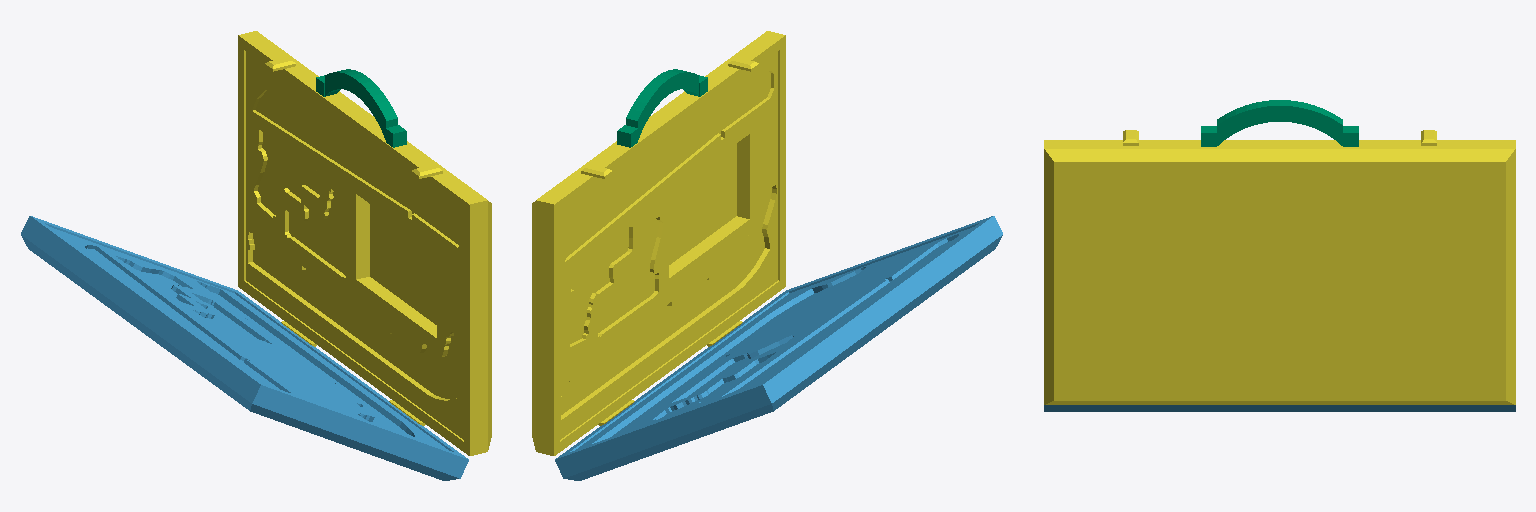
The robot description file, URDF, robot "partnet_e8fdbe64ccce82a2e2bb19fbad3e4596-0":
<?xml version="1.0" ?>
<robot name="partnet_e8fdbe64ccce82a2e2bb19fbad3e4596-0">
	<link name="base"/>
	<link name="link_0">
		<visual name="lid-1">
			<origin xyz="-0.0 0.33352888942731274 0.189507"/>
			<geometry>
				<mesh filename="textured_objs/original-1.obj"/>
			</geometry>
		</visual>
		<collision>
			<origin xyz="-0.0 0.33352888942731274 0.189507"/>
			<geometry>
				<mesh filename="textured_objs/original-1.obj"/>
			</geometry>
		</collision>
	</link>
	<joint name="joint_0" type="fixed">
		<origin xyz="0.0 -0.33352888942731274 -0.189507"/>
		<axis xyz="1.0 -0.0 -0.0"/>
		<child link="link_0"/>
		<parent link="link_2"/>
		<limit lower="-1.0471975511965976" upper="2.0943951023931953"/>
	</joint>
	<link name="link_1">
		<visual name="handle-2">
			<origin xyz="0.27395400000000025 -0.6275036156386198 0.2234539661454532"/>
			<geometry>
				<mesh filename="textured_objs/original-7.obj"/>
			</geometry>
		</visual>
		<collision>
			<origin xyz="0.27395400000000025 -0.6275036156386198 0.2234539661454532"/>
			<geometry>
				<mesh filename="textured_objs/original-7.obj"/>
			</geometry>
		</collision>
	</link>
	<joint name="joint_1" type="fixed">
		<origin xyz="-0.27395400000000025 0.6275036156386198 -0.2234539661454532"/>
		<axis xyz="1.0 -0.0 -0.0"/>
		<child link="link_1"/>
		<parent link="link_2"/>
		<limit lower="-1.5707963267948966" upper="1.5707963267948966"/>
	</joint>
	<link name="link_2">
		<visual name="base_body-3">
			<origin xyz="0 0 0"/>
			<geometry>
				<mesh filename="textured_objs/original-4.obj"/>
			</geometry>
		</visual>
		<visual name="base_body-3">
			<origin xyz="0 0 0"/>
			<geometry>
				<mesh filename="textured_objs/original-3.obj"/>
			</geometry>
		</visual>
		<visual name="base_body-3">
			<origin xyz="0 0 0"/>
			<geometry>
				<mesh filename="textured_objs/original-8.obj"/>
			</geometry>
		</visual>
		<visual name="base_body-3">
			<origin xyz="0 0 0"/>
			<geometry>
				<mesh filename="textured_objs/original-5.obj"/>
			</geometry>
		</visual>
		<visual name="base_body-3">
			<origin xyz="0 0 0"/>
			<geometry>
				<mesh filename="textured_objs/original-6.obj"/>
			</geometry>
		</visual>
		<collision>
			<origin xyz="0 0 0"/>
			<geometry>
				<mesh filename="textured_objs/original-4.obj"/>
			</geometry>
		</collision>
		<collision>
			<origin xyz="0 0 0"/>
			<geometry>
				<mesh filename="textured_objs/original-3.obj"/>
			</geometry>
		</collision>
		<collision>
			<origin xyz="0 0 0"/>
			<geometry>
				<mesh filename="textured_objs/original-8.obj"/>
			</geometry>
		</collision>
		<collision>
			<origin xyz="0 0 0"/>
			<geometry>
				<mesh filename="textured_objs/original-5.obj"/>
			</geometry>
		</collision>
		<collision>
			<origin xyz="0 0 0"/>
			<geometry>
				<mesh filename="textured_objs/original-6.obj"/>
			</geometry>
		</collision>
	</link>
	<joint name="joint_2" type="prismatic">
		<origin rpy="1.570796326794897 0 -1.570796326794897" xyz="0 0 0"/>
		<axis xyz="0 -1 0"/>
		<child link="link_2"/>
		<parent link="base"/>
		<limit lower="0" upper="0.3"/>
	</joint>
</robot>

--- What the picture shows (computed from the rendered views, not written in the file) ---
Views: 3 orthographic renders of the robot side by side, from view 1: azimuth 30°, elevation 25°; view 2: azimuth 150°, elevation 25°; view 3: azimuth 270°, elevation 25°.
Model partnet_e8fdbe64ccce82a2e2bb19fbad3e4596-0 with 4 links and 3 joints (1 prismatic, 2 fixed), rooted at base, posed every joint at zero.
Links seen in each view (by area): view 1: link_2, link_0, link_1; view 2: link_2, link_0, link_1; view 3: link_2, link_1, link_0.
Link boxes in pixels (x1,y1,x2,y2): link_2: (238, 31, 491, 455); link_0: (21, 216, 468, 480); link_1: (316, 69, 406, 147); link_2: (532, 31, 785, 455); link_0: (555, 216, 1002, 480); link_1: (617, 69, 707, 147); link_2: (1044, 130, 1515, 404); link_1: (1201, 100, 1358, 146); link_0: (1044, 405, 1515, 411).
Bounding box of the posed robot: 0.9619 × 1.58 × 1.19 m (x, y, z).
7 mesh visuals loaded from 7 distinct referenced files (7 OBJ).
